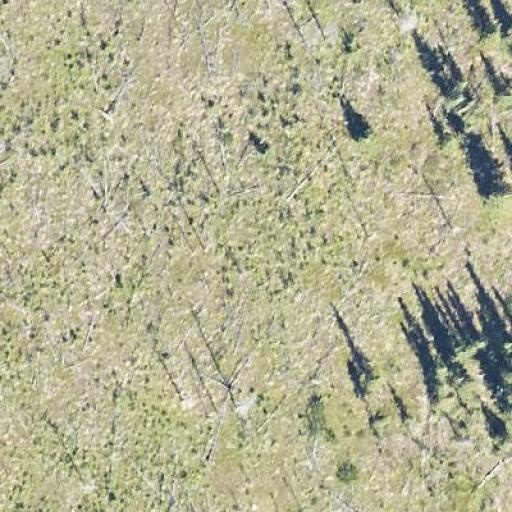tree-top: (440, 76, 496, 136), (418, 354, 472, 414), (350, 365, 386, 395), (475, 18, 504, 51), (486, 425, 511, 461), (478, 179, 510, 206), (333, 458, 361, 484), (463, 329, 489, 352), (351, 123, 376, 143)
